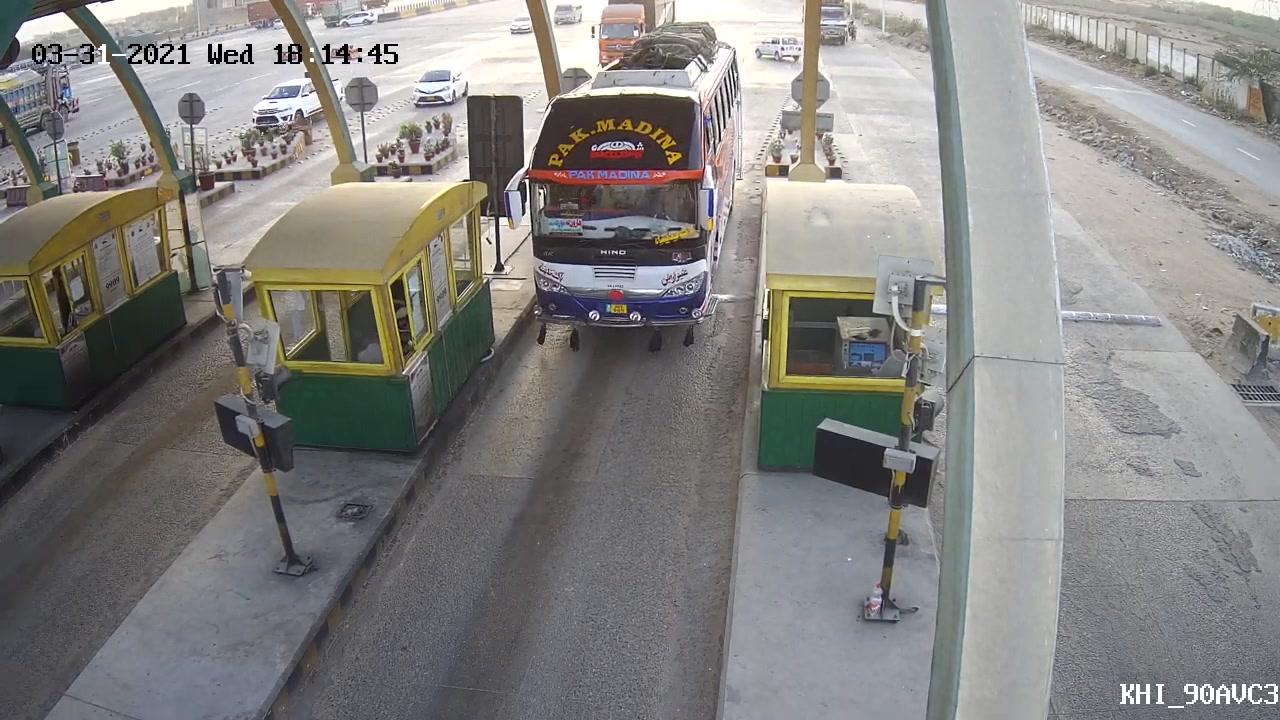F4: (504, 71, 749, 364)
